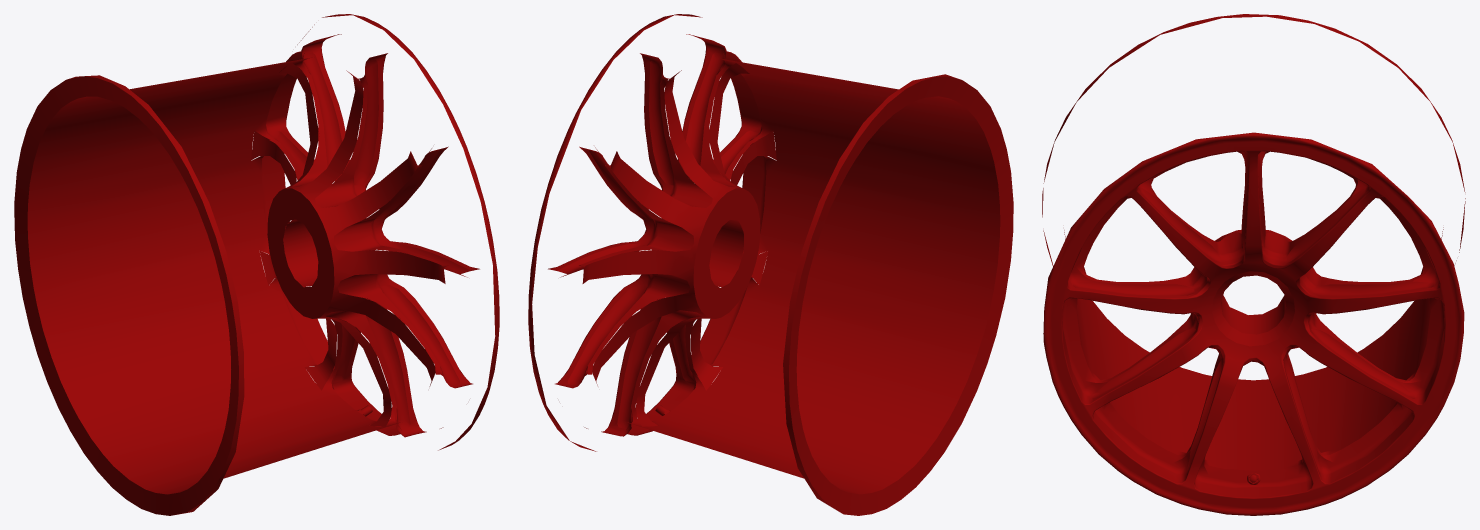
File: honda_nsx_gt3_rim_lf_Lod1.gltf
The picture shows the model from 3 angles, left to right: view 1: azimuth 30°, elevation 25°; view 2: azimuth 150°, elevation 25°; view 3: azimuth 270°, elevation 25°; orthographic projection. The views are drawn at different scales.
Visible parts, largest first — view 1: honda_nsx_gt3_rim_lf_Lod1; view 2: honda_nsx_gt3_rim_lf_Lod1; view 3: honda_nsx_gt3_rim_lf_Lod1.
Part boxes in pixels (box(x1,y1,x2,y2)): honda_nsx_gt3_rim_lf_Lod1: box(14, 14, 499, 515); honda_nsx_gt3_rim_lf_Lod1: box(528, 14, 1013, 515); honda_nsx_gt3_rim_lf_Lod1: box(1042, 14, 1465, 515).
Bounding box in the file's own units: 0.336 × 0.5002 × 0.5011.
